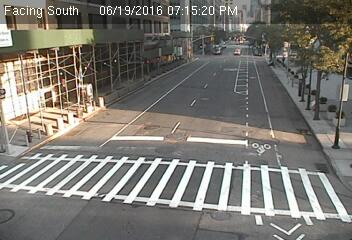pos: (279, 54, 289, 68)
